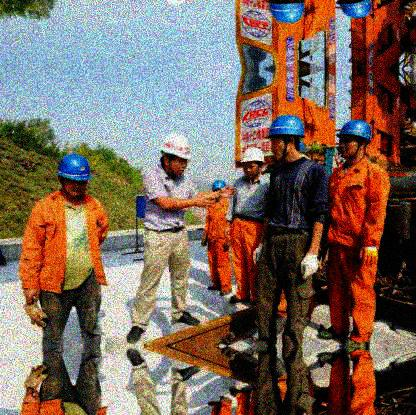helmet: (266, 116, 305, 161), (55, 152, 93, 198), (333, 120, 374, 158), (159, 133, 192, 177), (239, 147, 268, 179)
